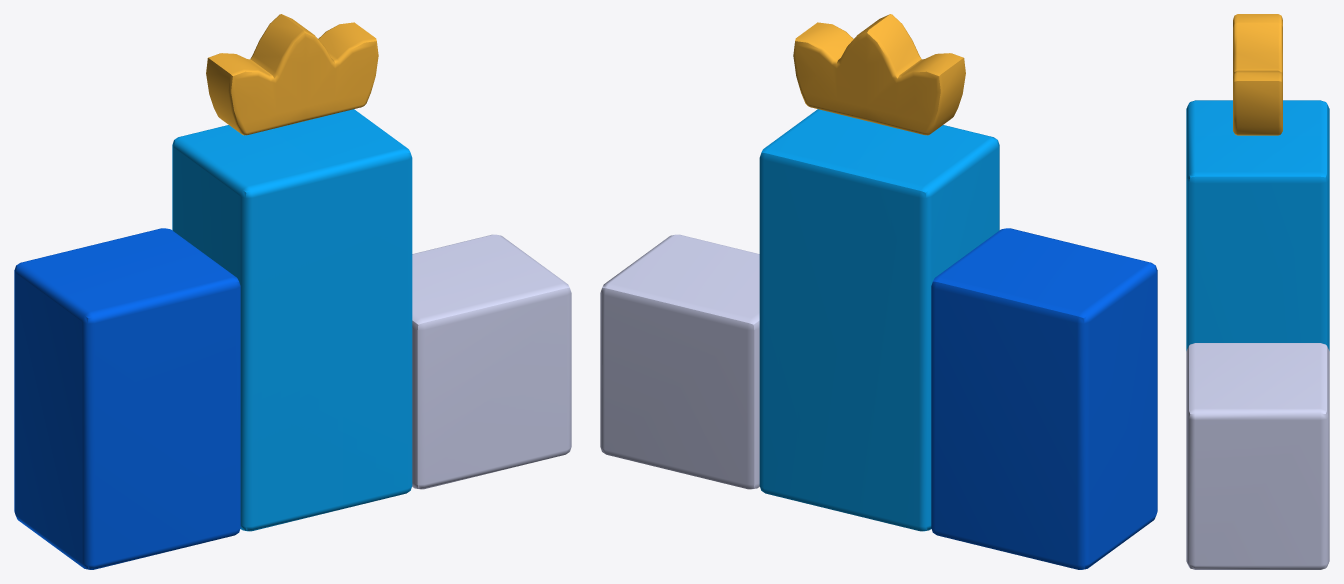
3 renders of one model, left to right at view 1: azimuth 30°, elevation 25°; view 2: azimuth 150°, elevation 25°; view 3: azimuth 270°, elevation 25°, orthographic. The views are drawn at different scales.
Parts seen in each view (by area): view 1: model_0.031; view 2: model_0.031; view 3: model_0.031.
Boxes of the visible parts, <box> form: model_0.031: <box>14,14,571,569</box>; model_0.031: <box>600,14,1157,569</box>; model_0.031: <box>1186,14,1329,569</box>.
Size of the model in its own units: 4.35 by 3.96 by 1.17.
